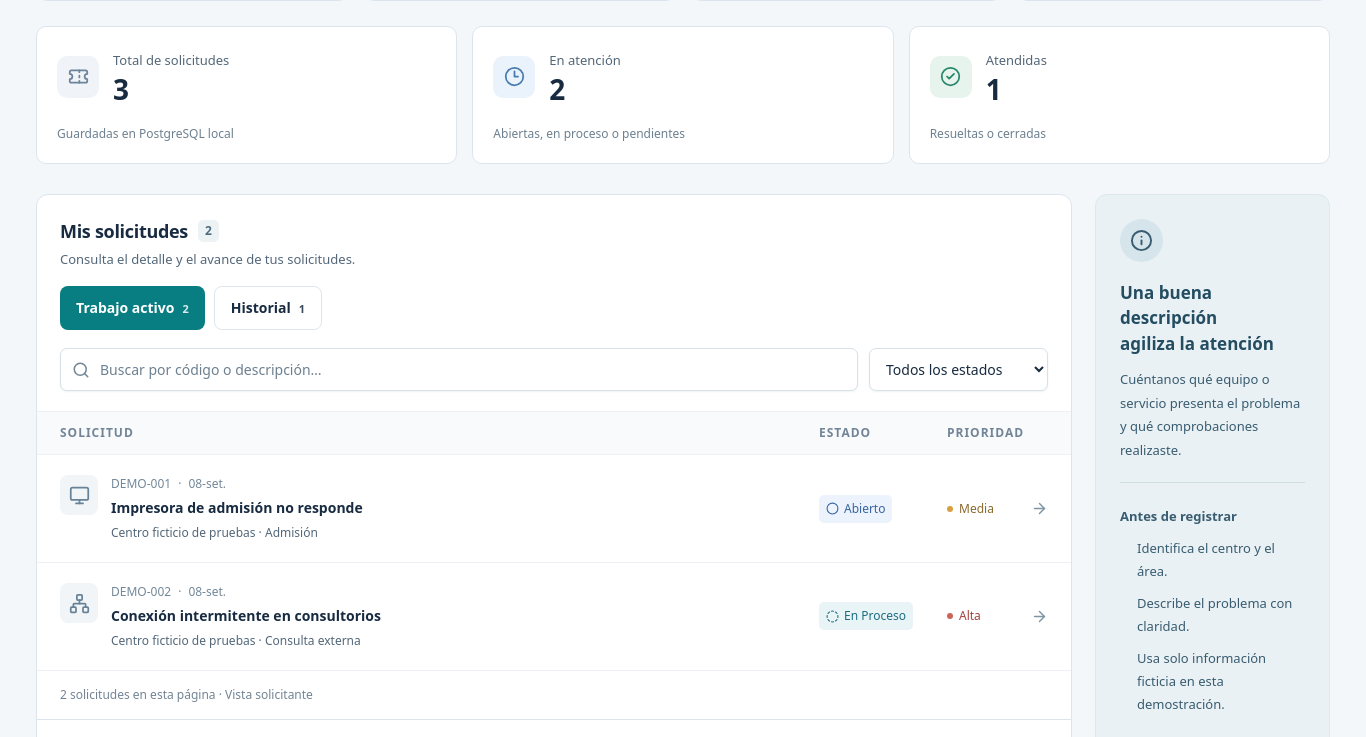
Test case: portal carga solicitudes persistentes y recupera un filtro vacío
The width and height of the screenshot is (1366, 737).
(page scrolled)
Expected: the number of buttons named "Ver DEMO" is 2, [37,456,1071,563]; [37,563,1071,671]
Type "sin coincidencias" into the field named "Buscar solicitudes" at [459, 370], box [60,348,858,392]
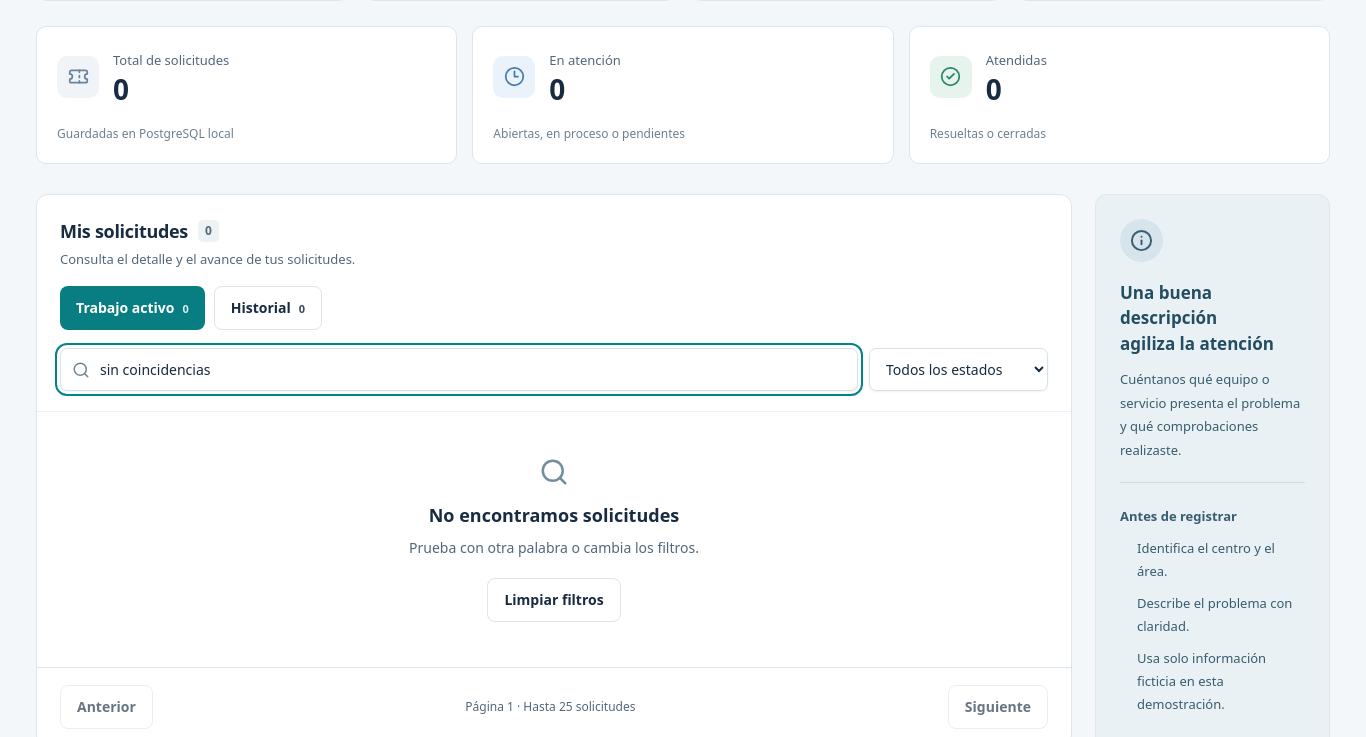
Now the heading "No encontramos solicitudes" is shown, box [429,504,679,528]
Click the button "Limpiar filtros" at [554, 600], box [487,578,621,622]
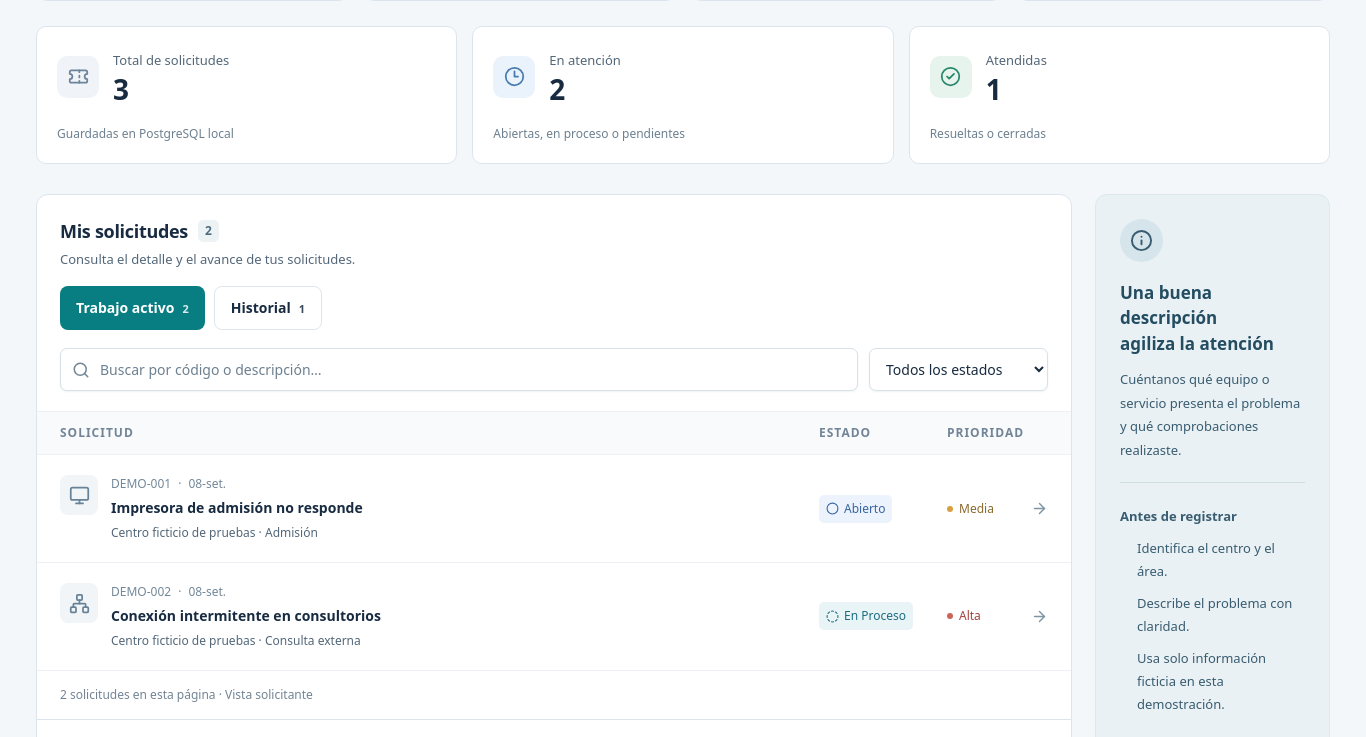
Now the number of buttons named "Ver DEMO" is 2, box [37,456,1071,563]; [37,563,1071,671]
Click the button "Historial 1" at [268, 308], box [214,286,322,330]
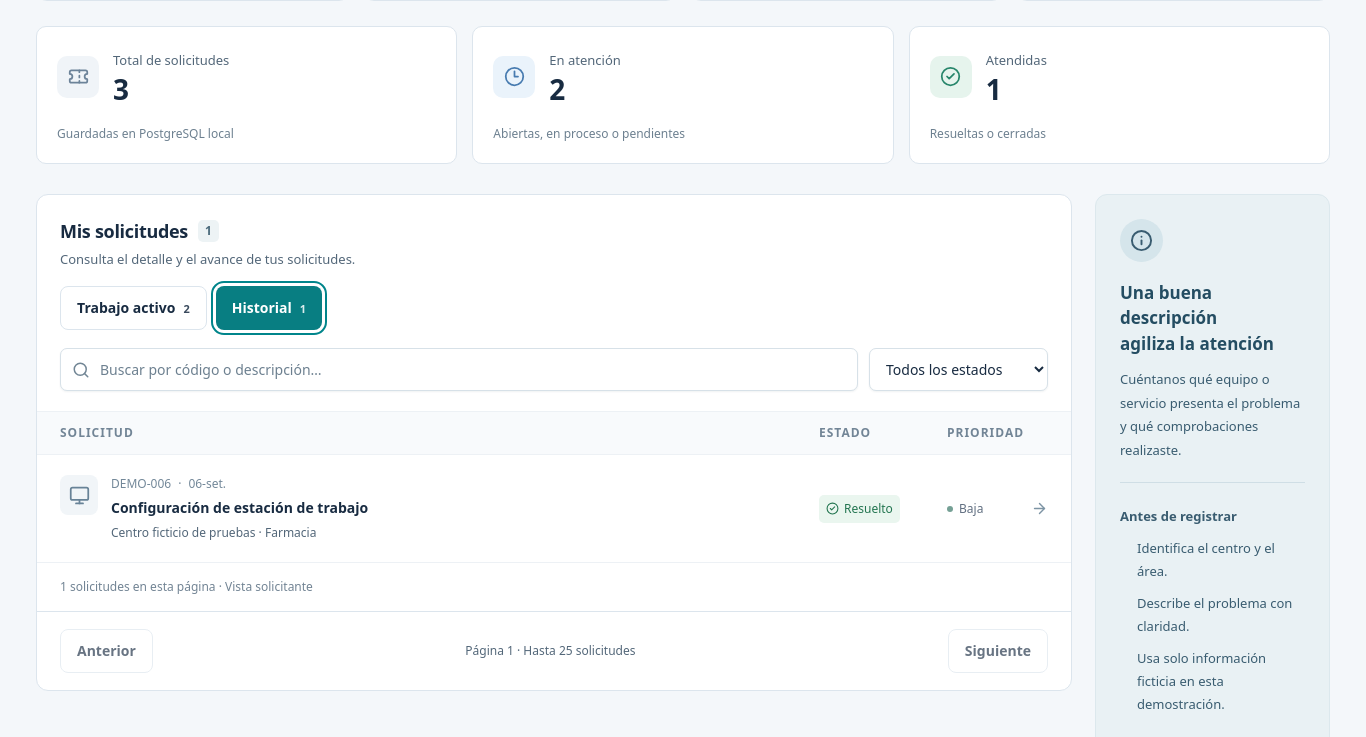
Now the button with aria-label "Ver DEMO-006" is shown, box [37,456,1071,563]
